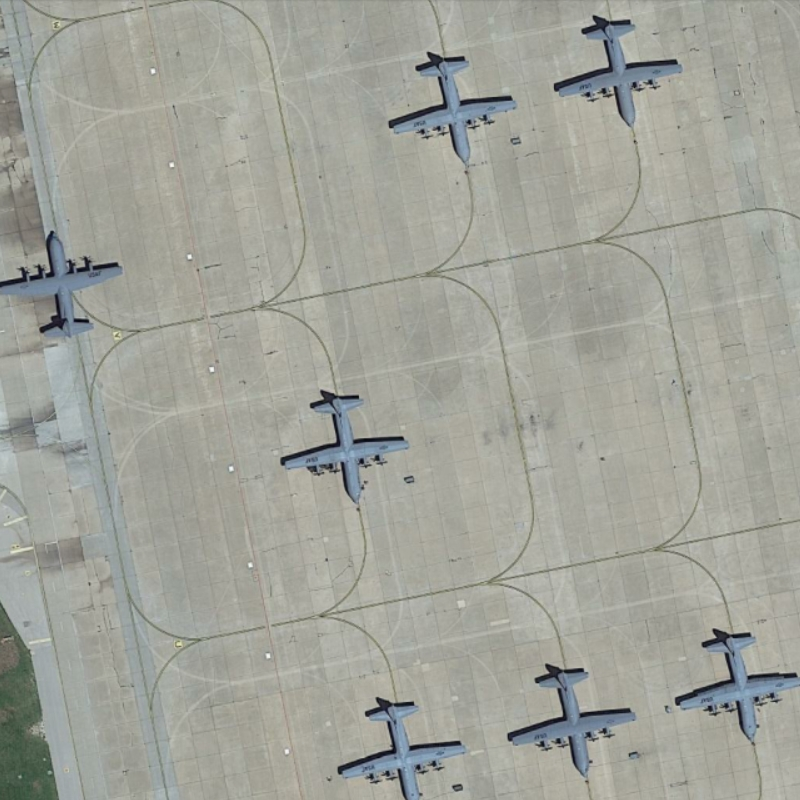A2: (276, 381, 424, 505), (381, 42, 525, 169), (499, 659, 643, 784), (1, 222, 137, 349), (551, 13, 688, 134), (673, 622, 800, 745), (331, 694, 475, 800)
